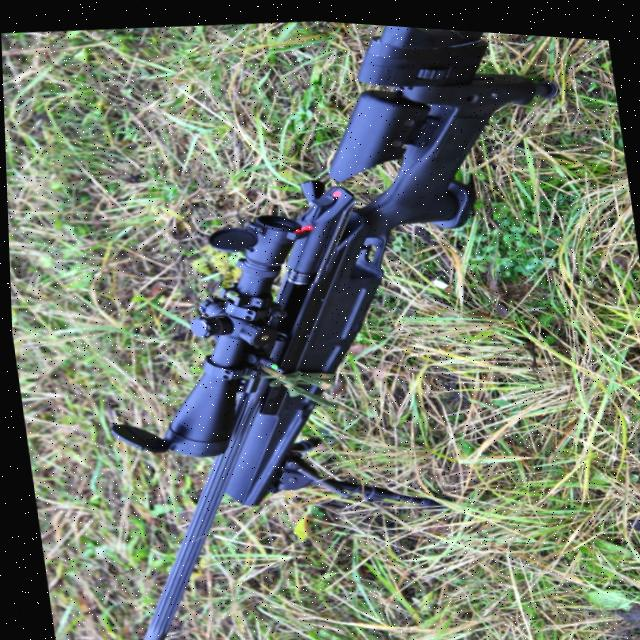firearm: (24, 1, 637, 640)
